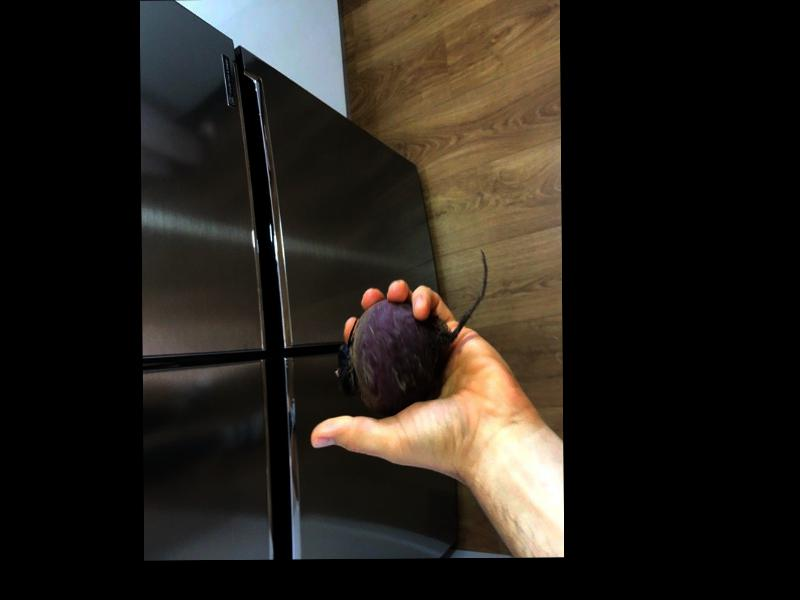Beet: (335, 249, 487, 417)
